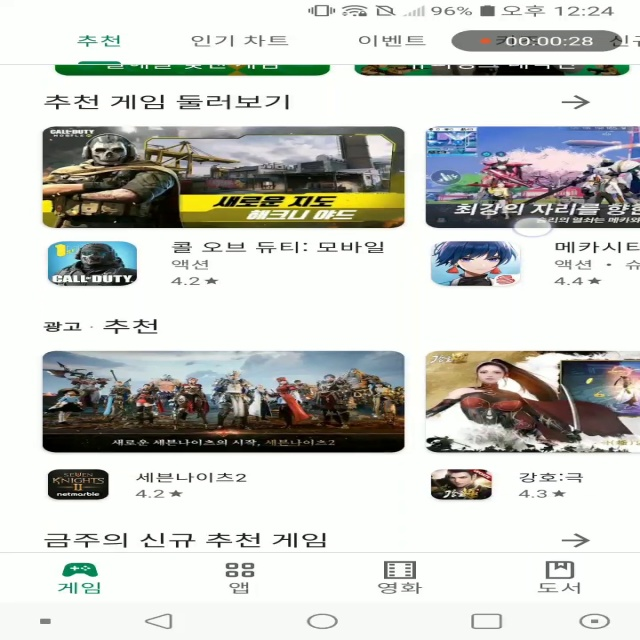Cursor: (511, 216, 555, 239)
